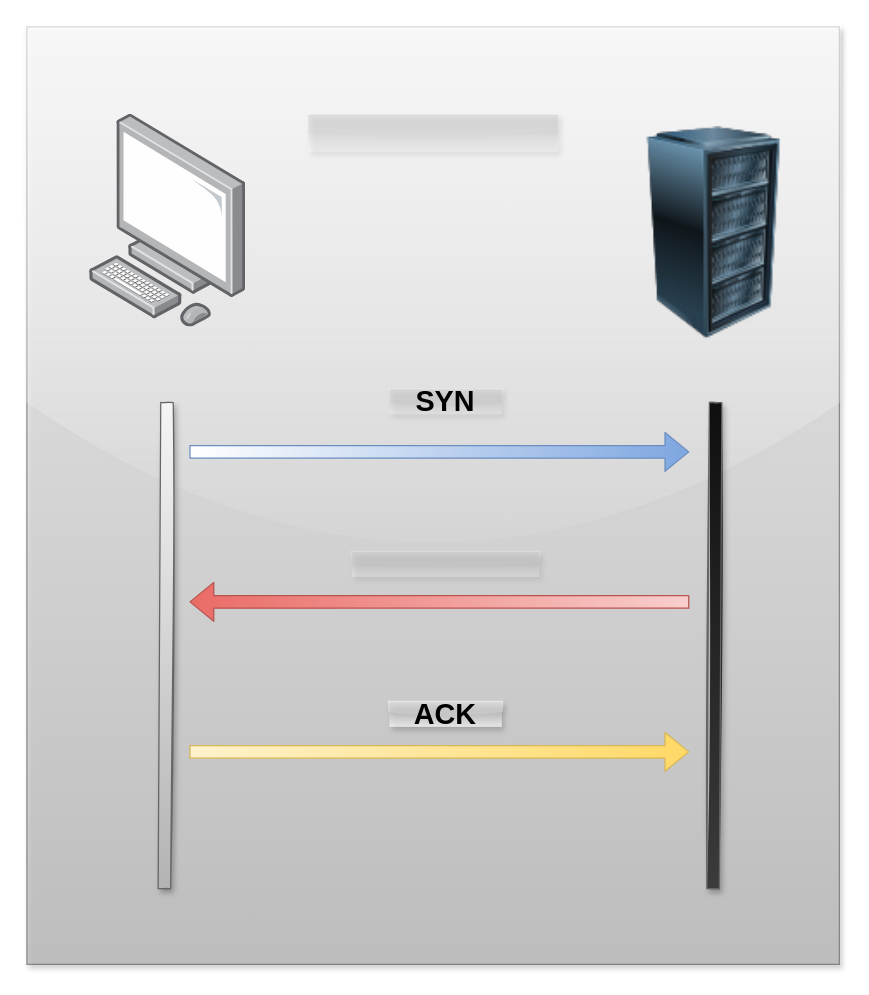
The diagram is 869 pixels wide and 995 high, and some of its shapes have lost their labels. Here are the shapes that lost their labels. From the top down, the centre of each, then its label:
At pixel 433 134: "handshake".
At pixel 446 565: "SYN ACK".
